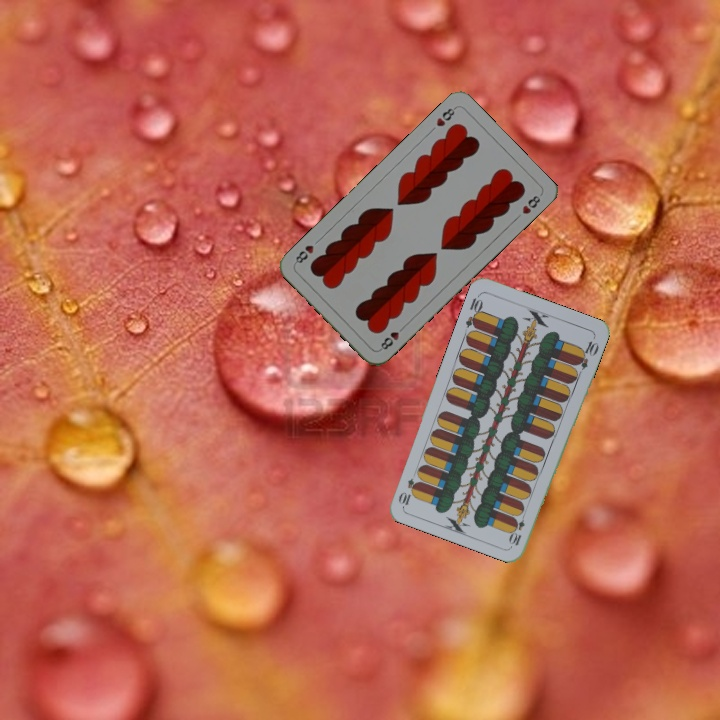E10: (461, 290, 486, 331), (507, 508, 528, 548)
H8: (375, 321, 408, 353), (432, 103, 459, 129)
